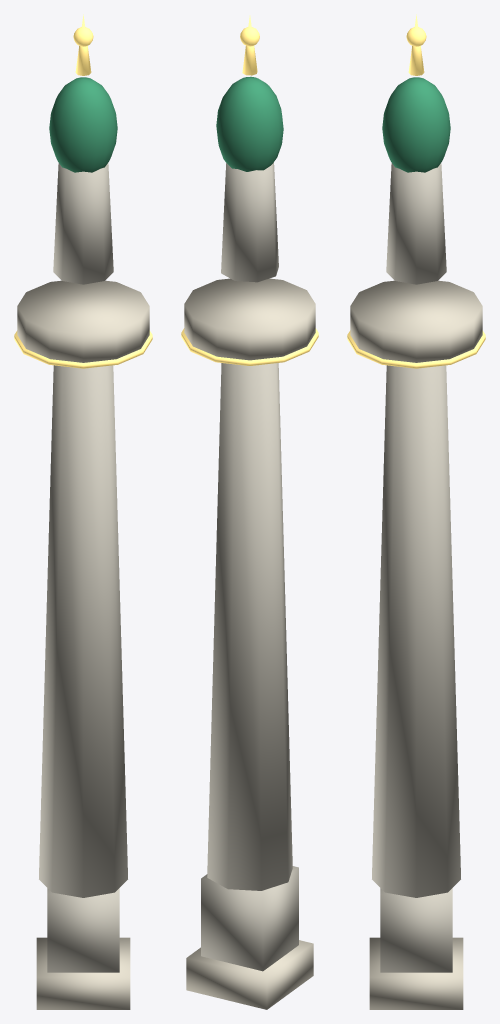
The model's file is minaret.glb.
3 views of the same model, side by side, from view 1: azimuth 90°, elevation 25°; view 2: azimuth 150°, elevation 25°; view 3: azimuth 270°, elevation 25° (orthographic).
Parts seen in each view (by area): view 1: plinth; view 2: plinth; view 3: plinth.
Boxes of the visible parts, x1,y1,x2,y2 form: plinth: (14, 14, 152, 1009); plinth: (181, 15, 318, 1009); plinth: (347, 14, 485, 1009).
Bounding box in the file's own units: 1.92 × 14.95 × 1.92.
